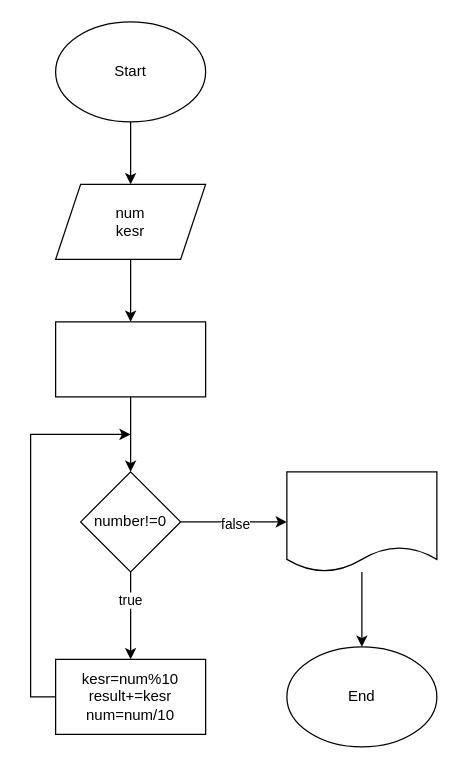
This 459x769 diagram has some shape labels left out. Here are the shapes that lost their labels. From the top down, the box of each, then its label:
(54, 321, 206, 397): result=0
(286, 471, 437, 572): result
